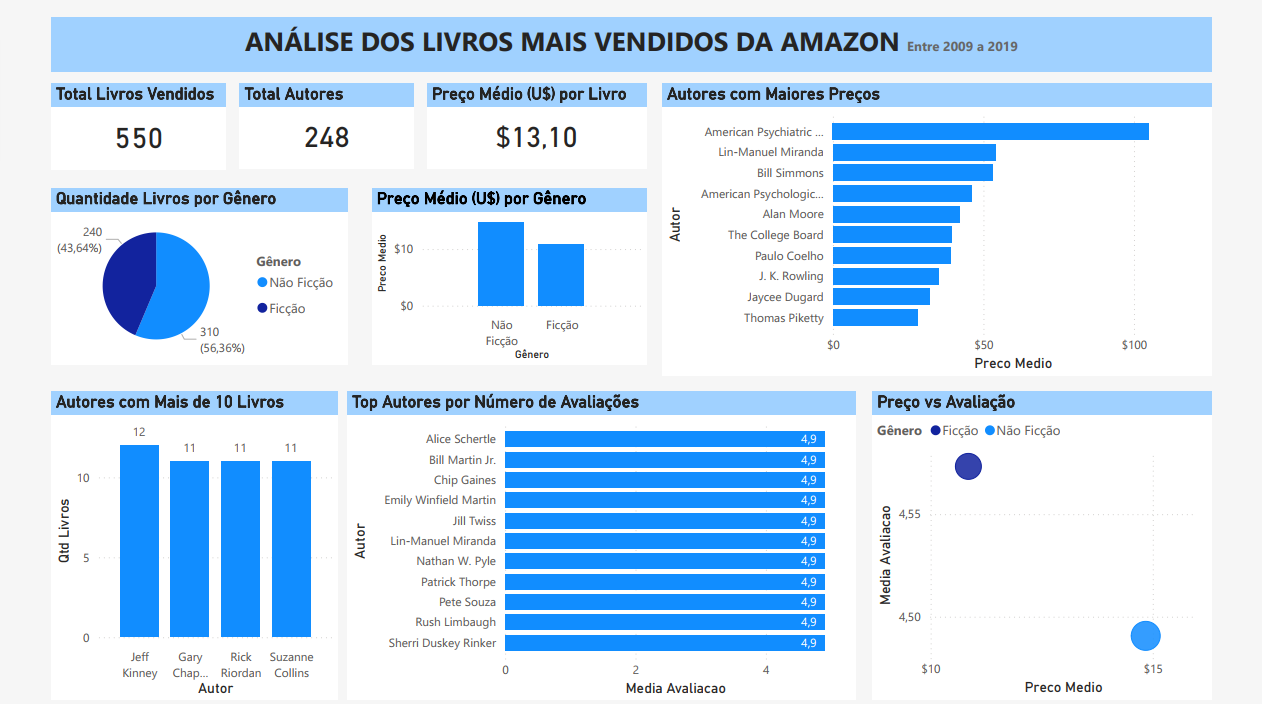

What the dashboard file says about the page in this screenshot:
{"tool":"powerbi","page":{"name":"Visão Geral","canvas":[1280,720],"ordinal":0},"visuals":[{"type":"clusteredColumnChart","title":"Preço Médio (U$) por Gênero","fields":{"Y":["bestsellers.Preco Medio"],"Category":["bestsellers.Gênero"]},"box":[376,190,278,179],"z":0},{"type":"clusteredBarChart","title":"Autores com Maiores Preços","fields":{"Category":["bestsellers.Autor"],"Y":["bestsellers.Preco Medio"]},"box":[670,84,557,296],"z":1000},{"type":"clusteredColumnChart","title":"Autores com Mais de 10 Livros","fields":{"Y":["bestsellers.Qtd Livros"],"Category":["bestsellers.Autor"]},"box":[51,396,290,313],"z":2000},{"type":"pieChart","title":"Quantidade Livros por Gênero","fields":{"Category":["bestsellers.Gênero"],"Y":["bestsellers.Qtd Livros"]},"box":[51,190,300,179],"z":3000},{"type":"textbox","box":[51.4,17.1,1176.2,55.4],"z":4000},{"type":"card","title":"Total Livros Vendidos","fields":{"Values":["bestsellers.Qtd Livros"]},"box":[51.4,83.7,177.4,86.7],"z":5000},{"type":"card","title":"Preço Médio (U$) por Livro","fields":{"Values":["bestsellers.Preco Medio"]},"box":[432,84,222,86],"z":6000},{"type":"card","title":"Total Autores","fields":{"Values":["bestsellers.Qts Autores"]},"box":[242,84,177,86],"z":7000},{"type":"scatterChart","title":"Preço vs Avaliação","fields":{"X":["bestsellers.Preco Medio"],"Y":["bestsellers.Media Avaliacao"],"Series":["bestsellers.Gênero"],"Size":["Sum(bestsellers.Avaliação dos usuários)"]},"box":[883,396,344,313],"z":8000},{"type":"clusteredBarChart","title":"Top Autores por Número de Avaliações","fields":{"Y":["bestsellers.Media Avaliacao"],"Category":["bestsellers.Autor"]},"box":[351,396,515,313],"z":9000}]}

Visuals, with their boxes in screenshot pixels (x1, y1, x2, y2), scaled from the page's 1280x720 canvas onto the 1262x704 screenshot:
"Preço Médio (U$) por Gênero" clusteredColumnChart: pyautogui.locateOnScreen(371, 186, 645, 361)
"Autores com Maiores Preços" clusteredBarChart: pyautogui.locateOnScreen(661, 82, 1210, 372)
"Autores com Mais de 10 Livros" clusteredColumnChart: pyautogui.locateOnScreen(50, 387, 336, 693)
"Quantidade Livros por Gênero" pieChart: pyautogui.locateOnScreen(50, 186, 346, 361)
textbox: pyautogui.locateOnScreen(51, 17, 1210, 71)
"Total Livros Vendidos" card: pyautogui.locateOnScreen(51, 82, 226, 167)
"Preço Médio (U$) por Livro" card: pyautogui.locateOnScreen(426, 82, 645, 166)
"Total Autores" card: pyautogui.locateOnScreen(239, 82, 413, 166)
"Preço vs Avaliação" scatterChart: pyautogui.locateOnScreen(871, 387, 1210, 693)
"Top Autores por Número de Avaliações" clusteredBarChart: pyautogui.locateOnScreen(346, 387, 854, 693)
